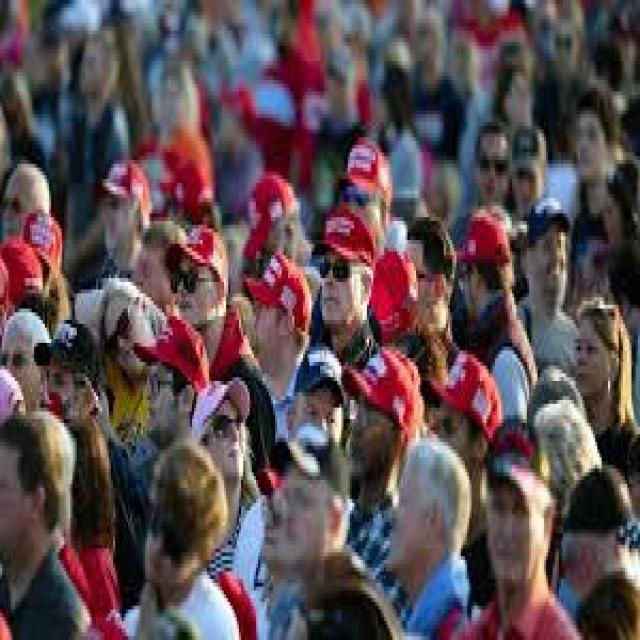cap: (130, 282, 216, 396), (339, 331, 420, 442), (482, 408, 563, 514), (239, 236, 314, 335), (431, 347, 503, 438), (312, 198, 378, 278), (185, 370, 254, 438), (446, 202, 514, 267), (179, 217, 233, 290), (337, 133, 397, 198), (521, 183, 580, 244), (100, 156, 154, 217), (4, 221, 43, 297), (28, 198, 64, 271)
